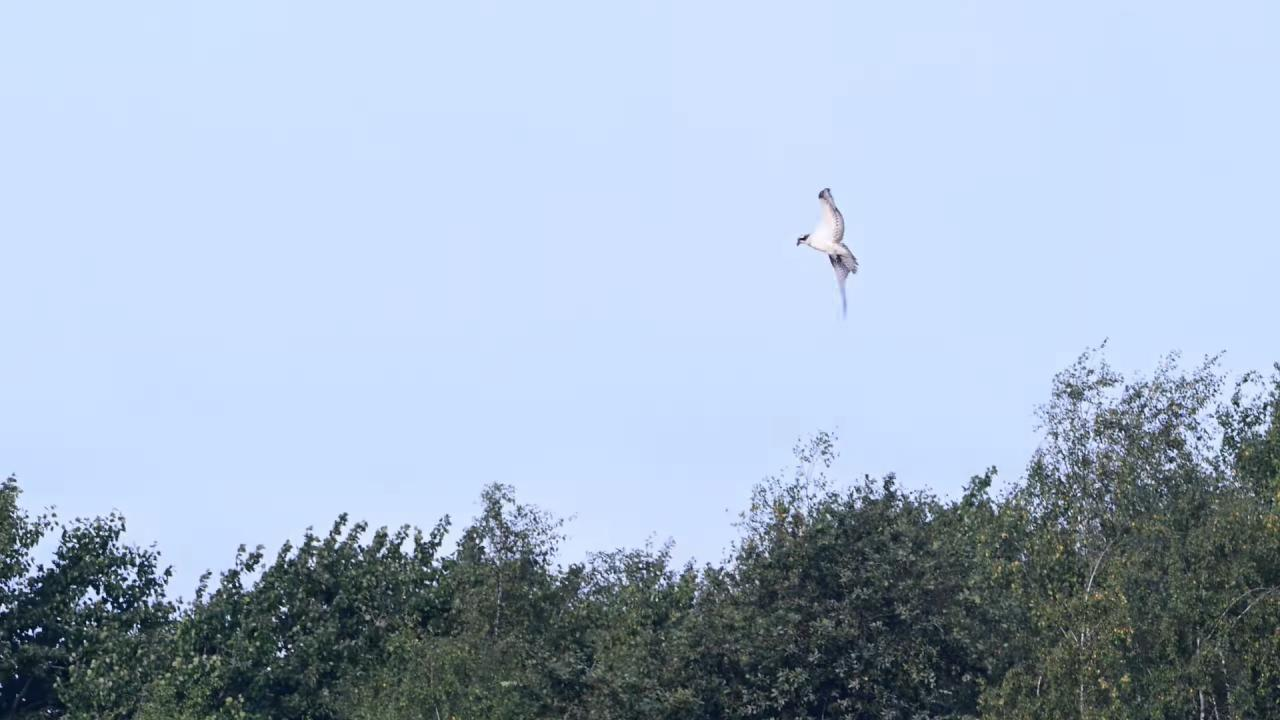Bird: (784, 176, 868, 332)
